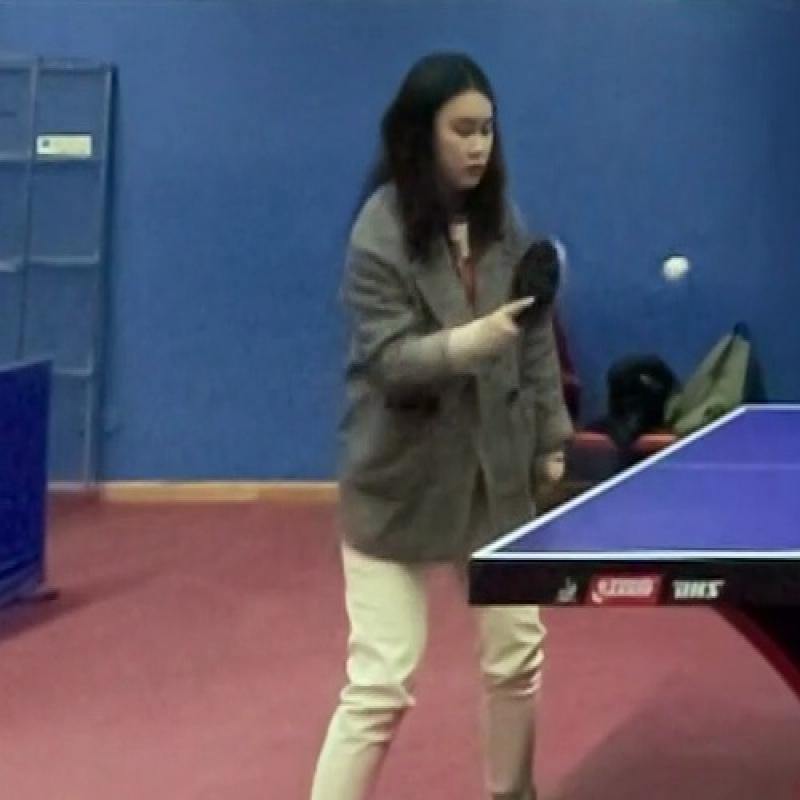bats: (496, 226, 580, 338)
